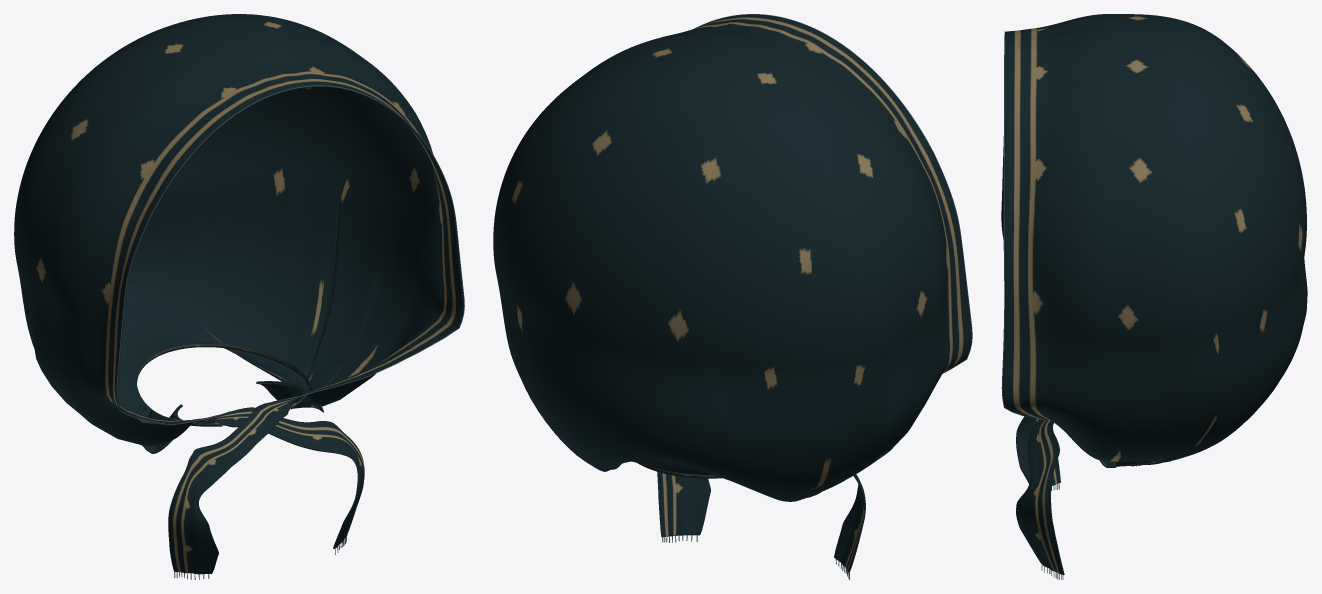
File: Feminine-ponytail-open-pashmina250-headgear.glb
3 renders of one model, left to right at view 1: azimuth 30°, elevation 25°; view 2: azimuth 150°, elevation 25°; view 3: azimuth 270°, elevation 25°, orthographic. The views are drawn at different scales.
Visible parts, largest first — view 1: 226 headgear / Headwear / continuous woven pashmina239, 226 headgear / Headwear / face edge239; view 2: 226 headgear / Headwear / continuous woven pashmina239, 226 headgear / Headwear / face edge239; view 3: 226 headgear / Headwear / continuous woven pashmina239, 226 headgear / Headwear / face edge239.
Boxes of the visible parts, x1,y1,x2,y2 form: 226 headgear / Headwear / continuous woven pashmina239: [14, 14, 463, 574]; 226 headgear / Headwear / face edge239: [116, 85, 464, 425]; 226 headgear / Headwear / continuous woven pashmina239: [493, 14, 971, 573]; 226 headgear / Headwear / face edge239: [694, 14, 972, 373]; 226 headgear / Headwear / continuous woven pashmina239: [1001, 14, 1307, 575]; 226 headgear / Headwear / face edge239: [1001, 31, 1045, 419].
Size of the model in its own units: 1.07 by 1.38 by 0.7569.
3 materials, 1 textured.
